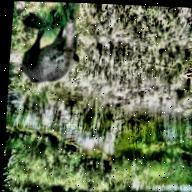boar: (7, 2, 103, 102)
